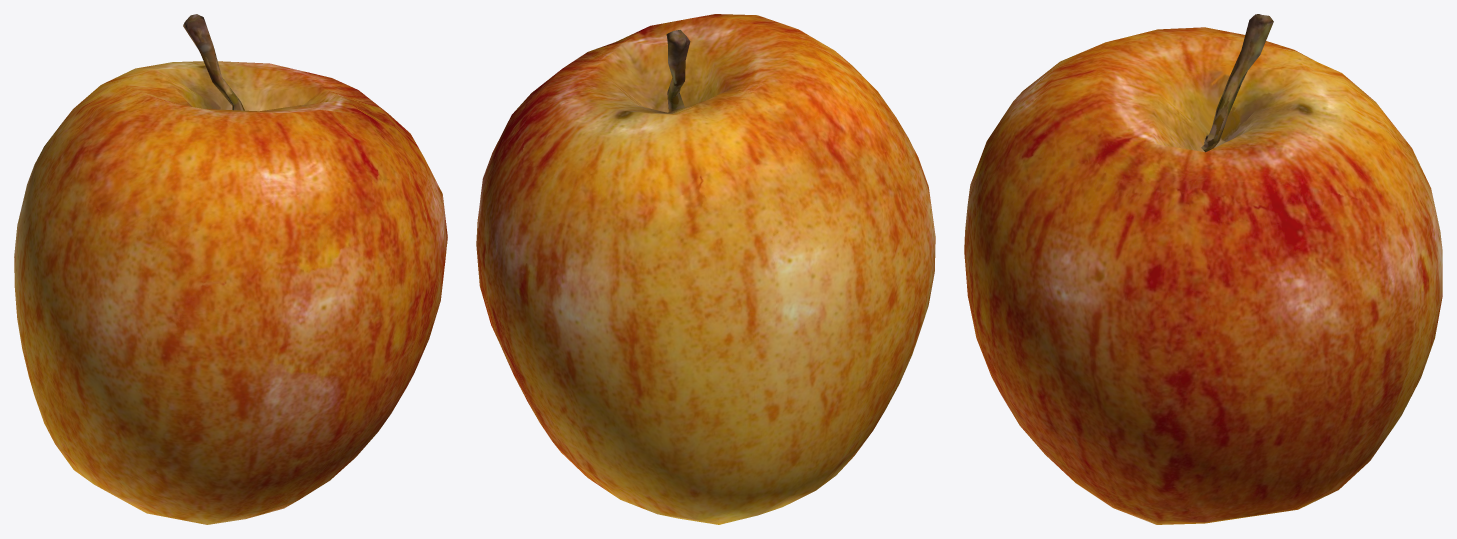
File: Apple.fbx
3 views of the same model, side by side, from view 1: azimuth 30°, elevation 25°; view 2: azimuth 150°, elevation 25°; view 3: azimuth 270°, elevation 25° (orthographic). The views are drawn at different scales.
Parts seen in each view (by area): view 1: Apple; view 2: Apple; view 3: Apple.
Part boxes in pixels (box(x1,y1,x2,y2)): Apple: box(14, 14, 447, 524); Apple: box(476, 14, 935, 524); Apple: box(964, 14, 1442, 524).
Size of the model in its own units: 6609 by 7592 by 6781.
